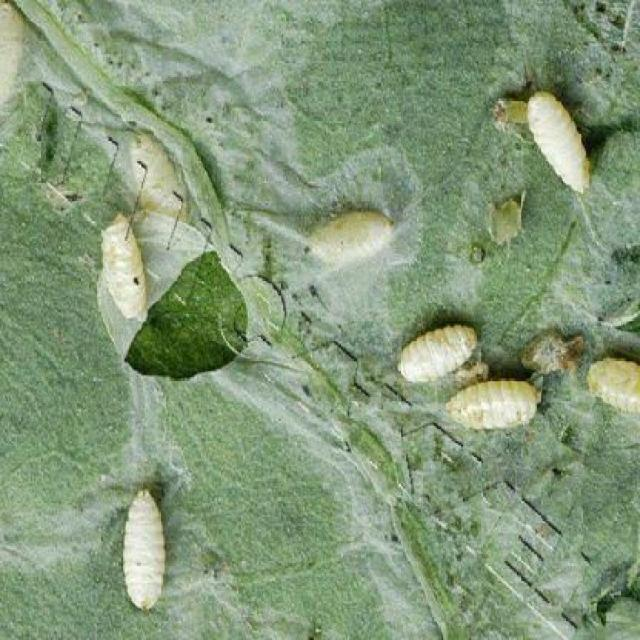whorl-maggot: (528, 77, 592, 205), (440, 375, 549, 440), (118, 486, 171, 616), (388, 325, 497, 383), (303, 202, 405, 260), (97, 212, 148, 325), (592, 348, 640, 423)
